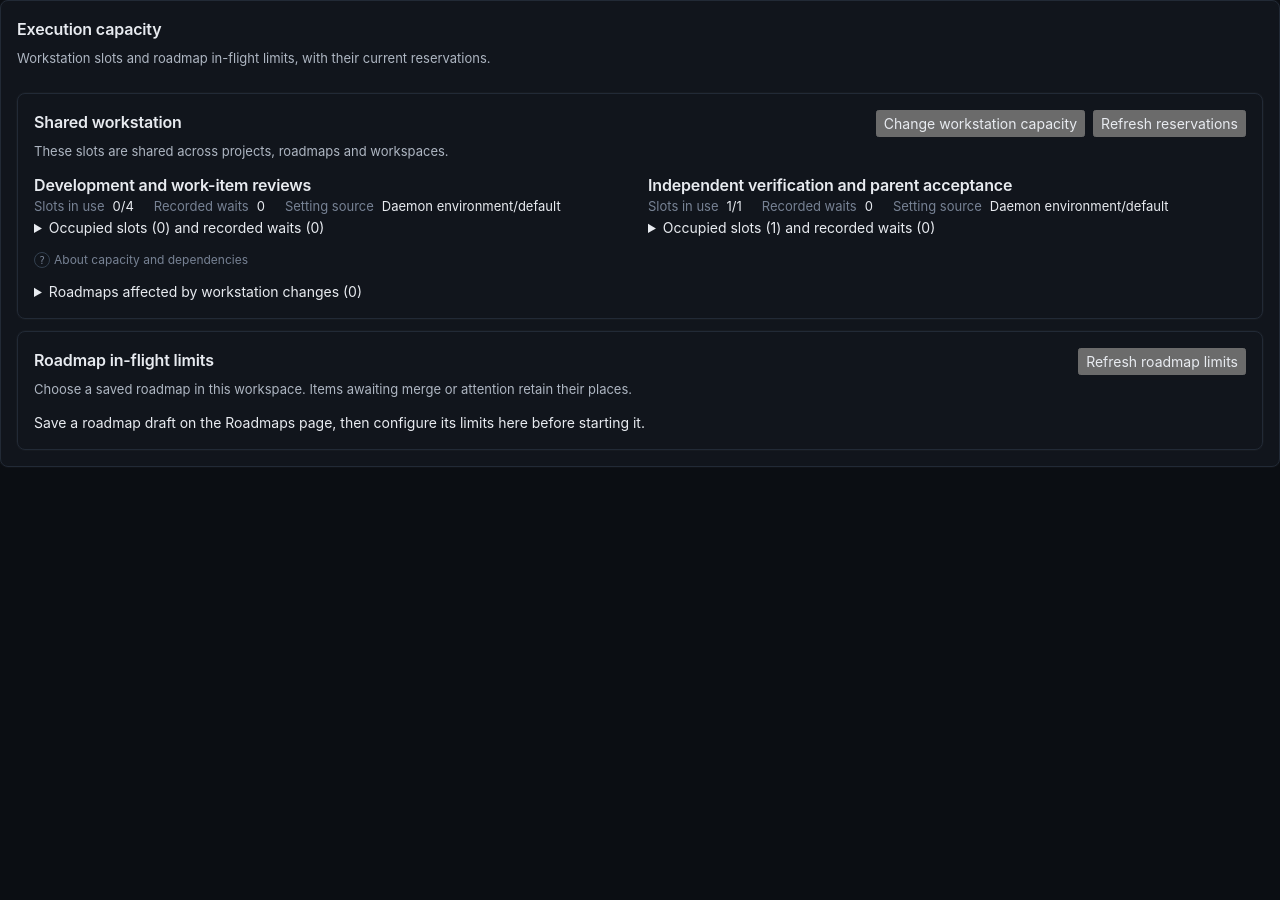
Test case: links reservations and blocks stale edits after a refresh instead of overwriting other saves
Click the button "Change workstation capacity" at (981, 123), box [876,110,1085,136]
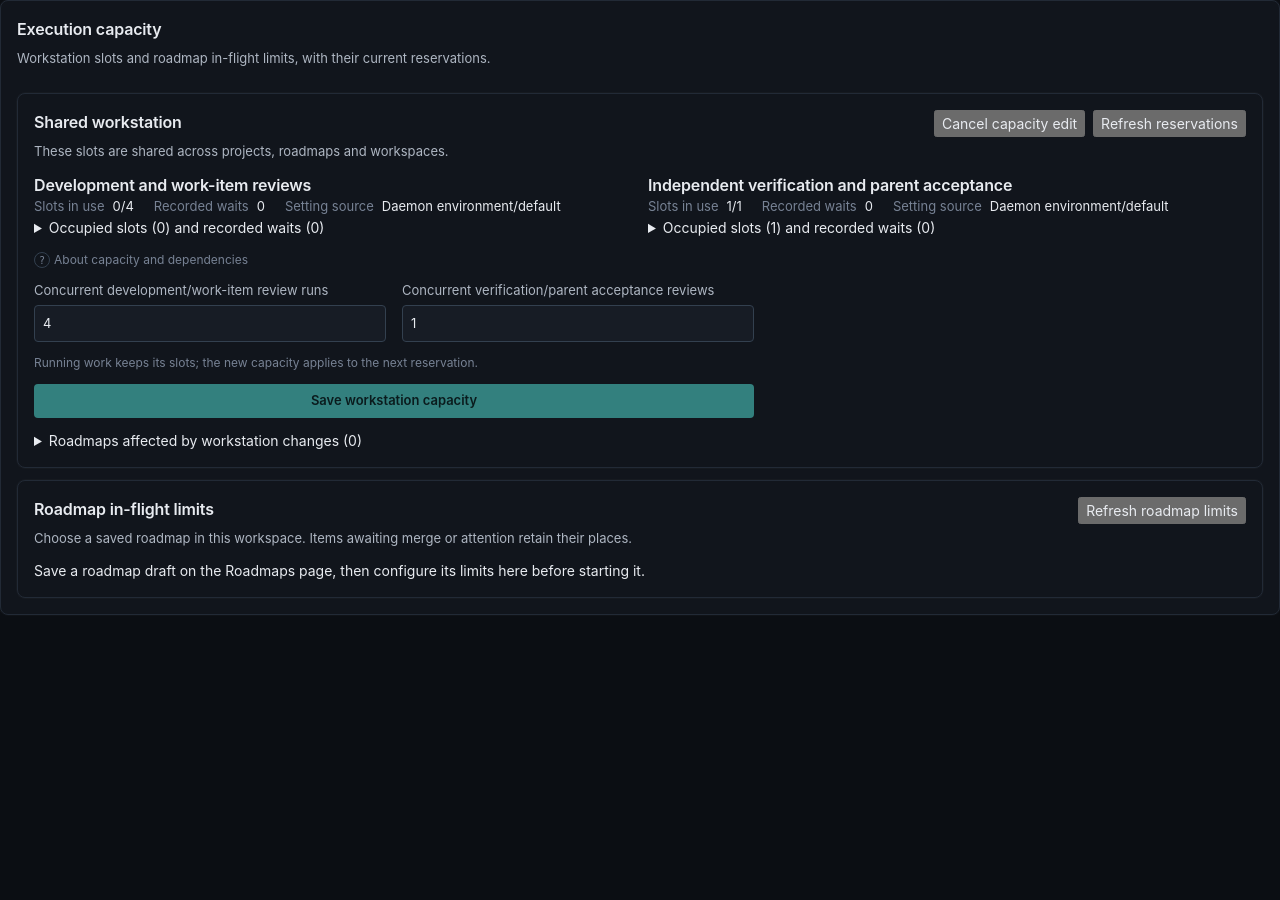
Replace the text in the number field labelled "Concurrent development/work-item review runs" with "6" at (210, 323), box [34,304,386,342]
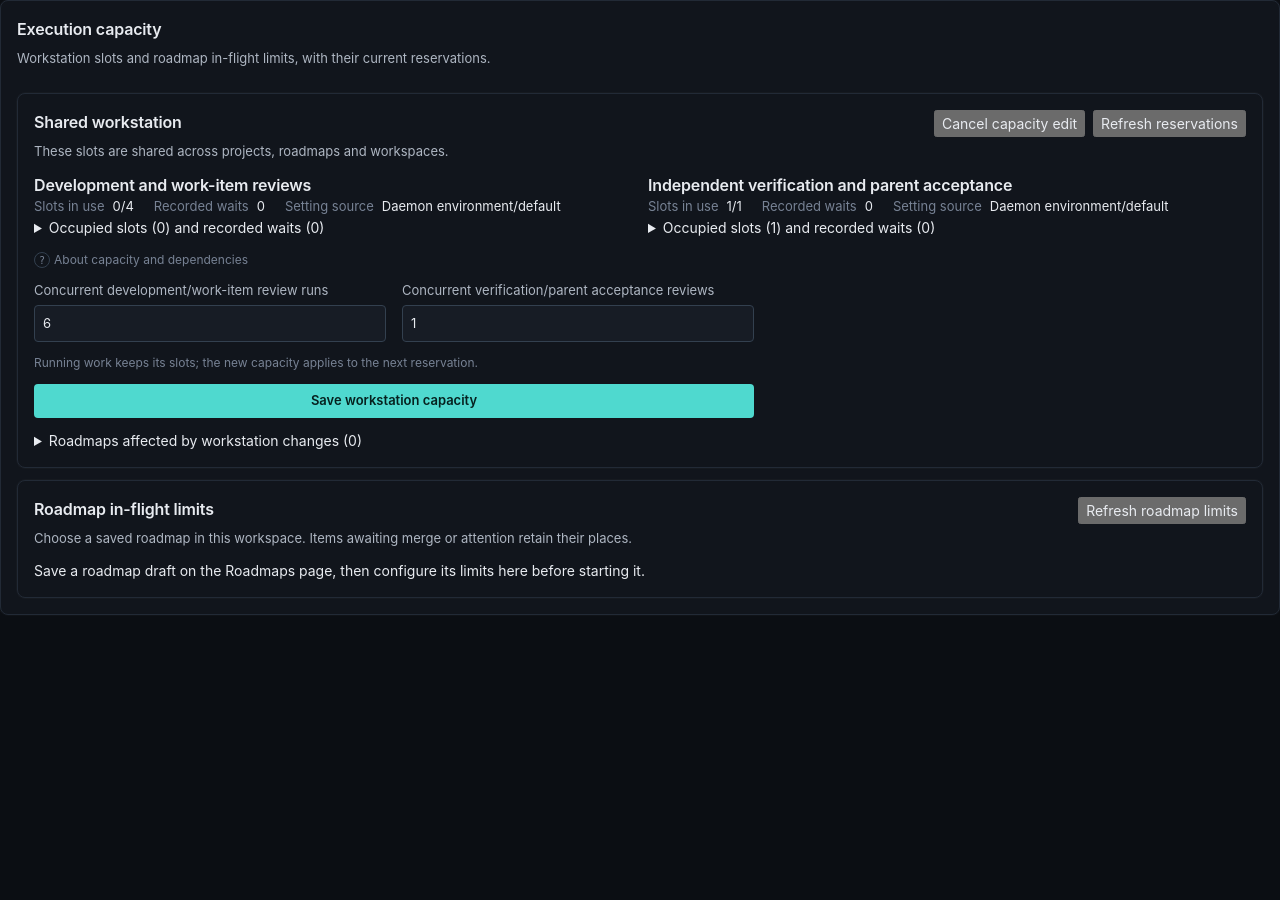
Click the button "Refresh reservations" at (1170, 123), box [1093,110,1246,136]
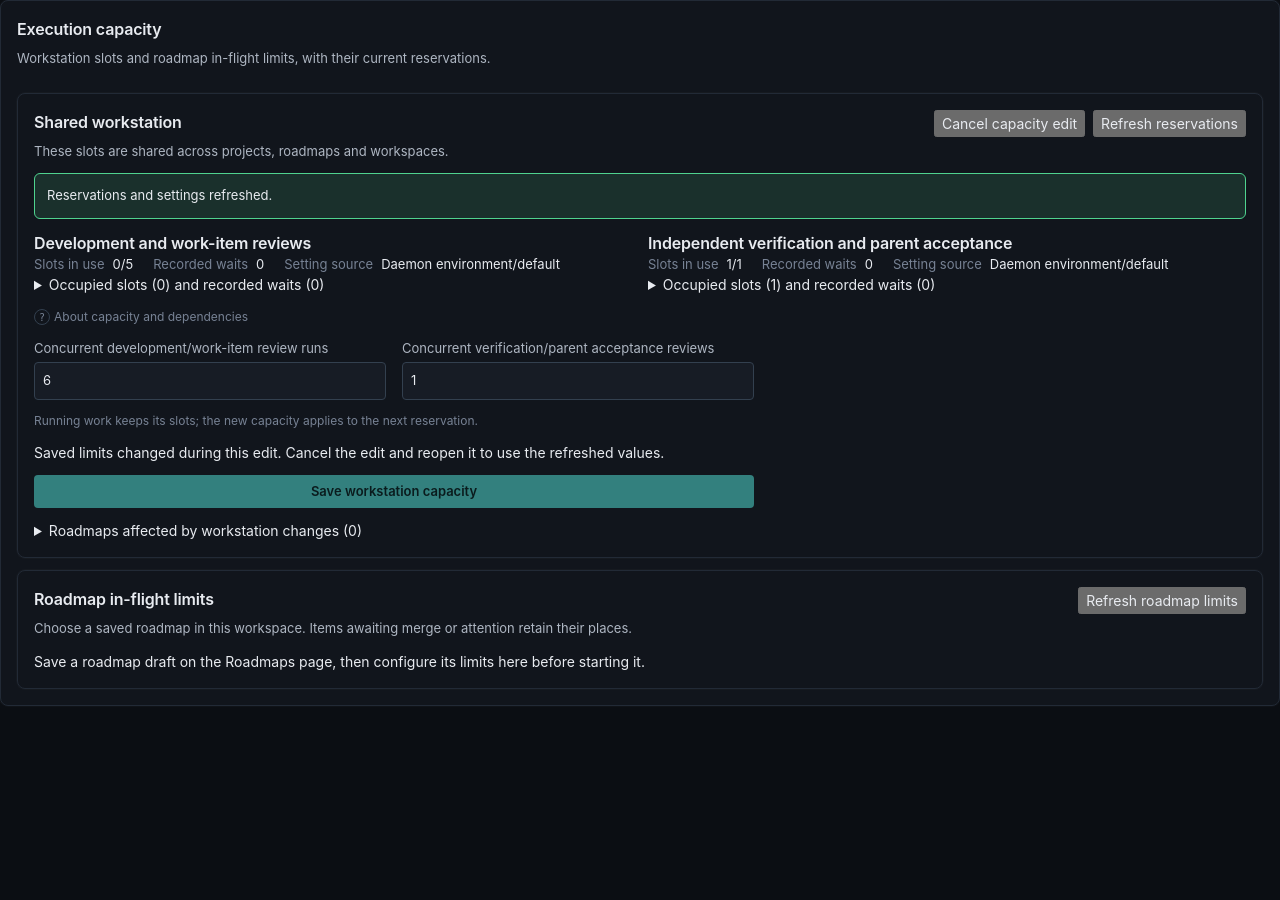
Now the text "Saved limits changed during this edit" is shown, box [34,444,664,460]
Now the button "Save workstation capacity" is disabled, box [34,474,754,508]
